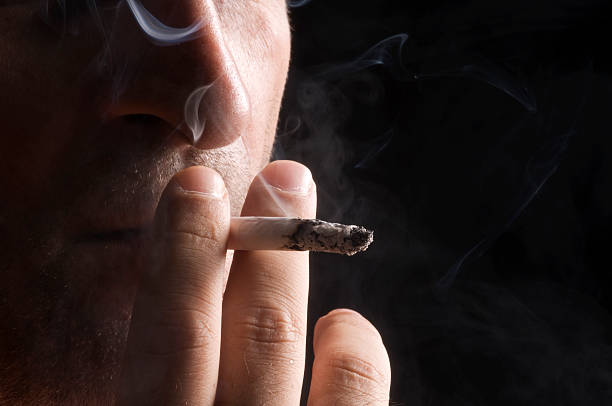cigarette: (227, 216, 377, 258)
